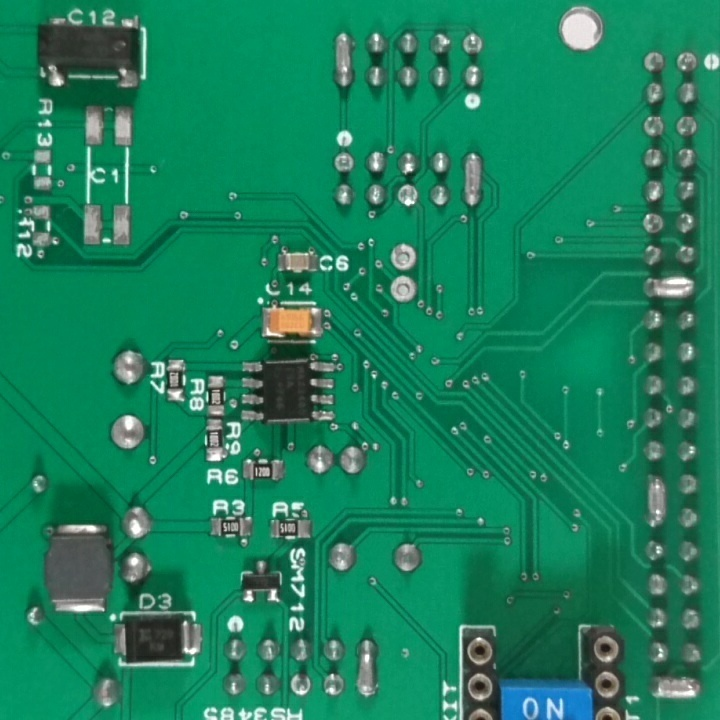F: (384, 241, 421, 272), (386, 275, 420, 306), (287, 667, 315, 703), (394, 180, 419, 212), (331, 150, 356, 178), (461, 30, 486, 57), (641, 211, 667, 235), (677, 115, 701, 139), (678, 49, 699, 75)
P: (350, 636, 381, 702), (329, 32, 358, 92), (645, 672, 704, 701), (460, 150, 487, 212), (639, 274, 694, 303), (644, 472, 670, 531)
